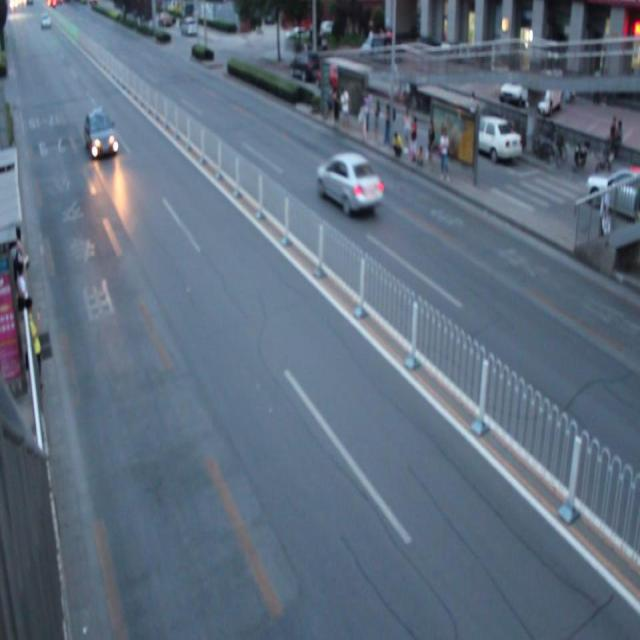car: (316, 150, 382, 214), (84, 108, 117, 162)
